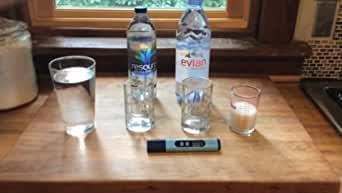bottle: (173, 0, 213, 114), (124, 4, 161, 105)
